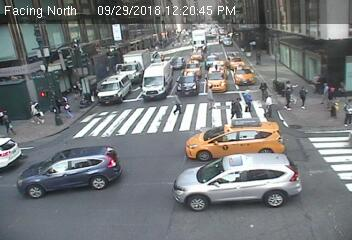car: (172, 150, 305, 209), (16, 147, 124, 198), (185, 118, 284, 160), (140, 62, 173, 98), (116, 47, 149, 82), (97, 74, 132, 104), (206, 68, 230, 94), (178, 74, 200, 97), (235, 64, 256, 87), (189, 28, 206, 49), (226, 54, 247, 68), (186, 60, 201, 75), (172, 54, 185, 70), (205, 53, 220, 66), (224, 35, 235, 47), (193, 50, 204, 60)
